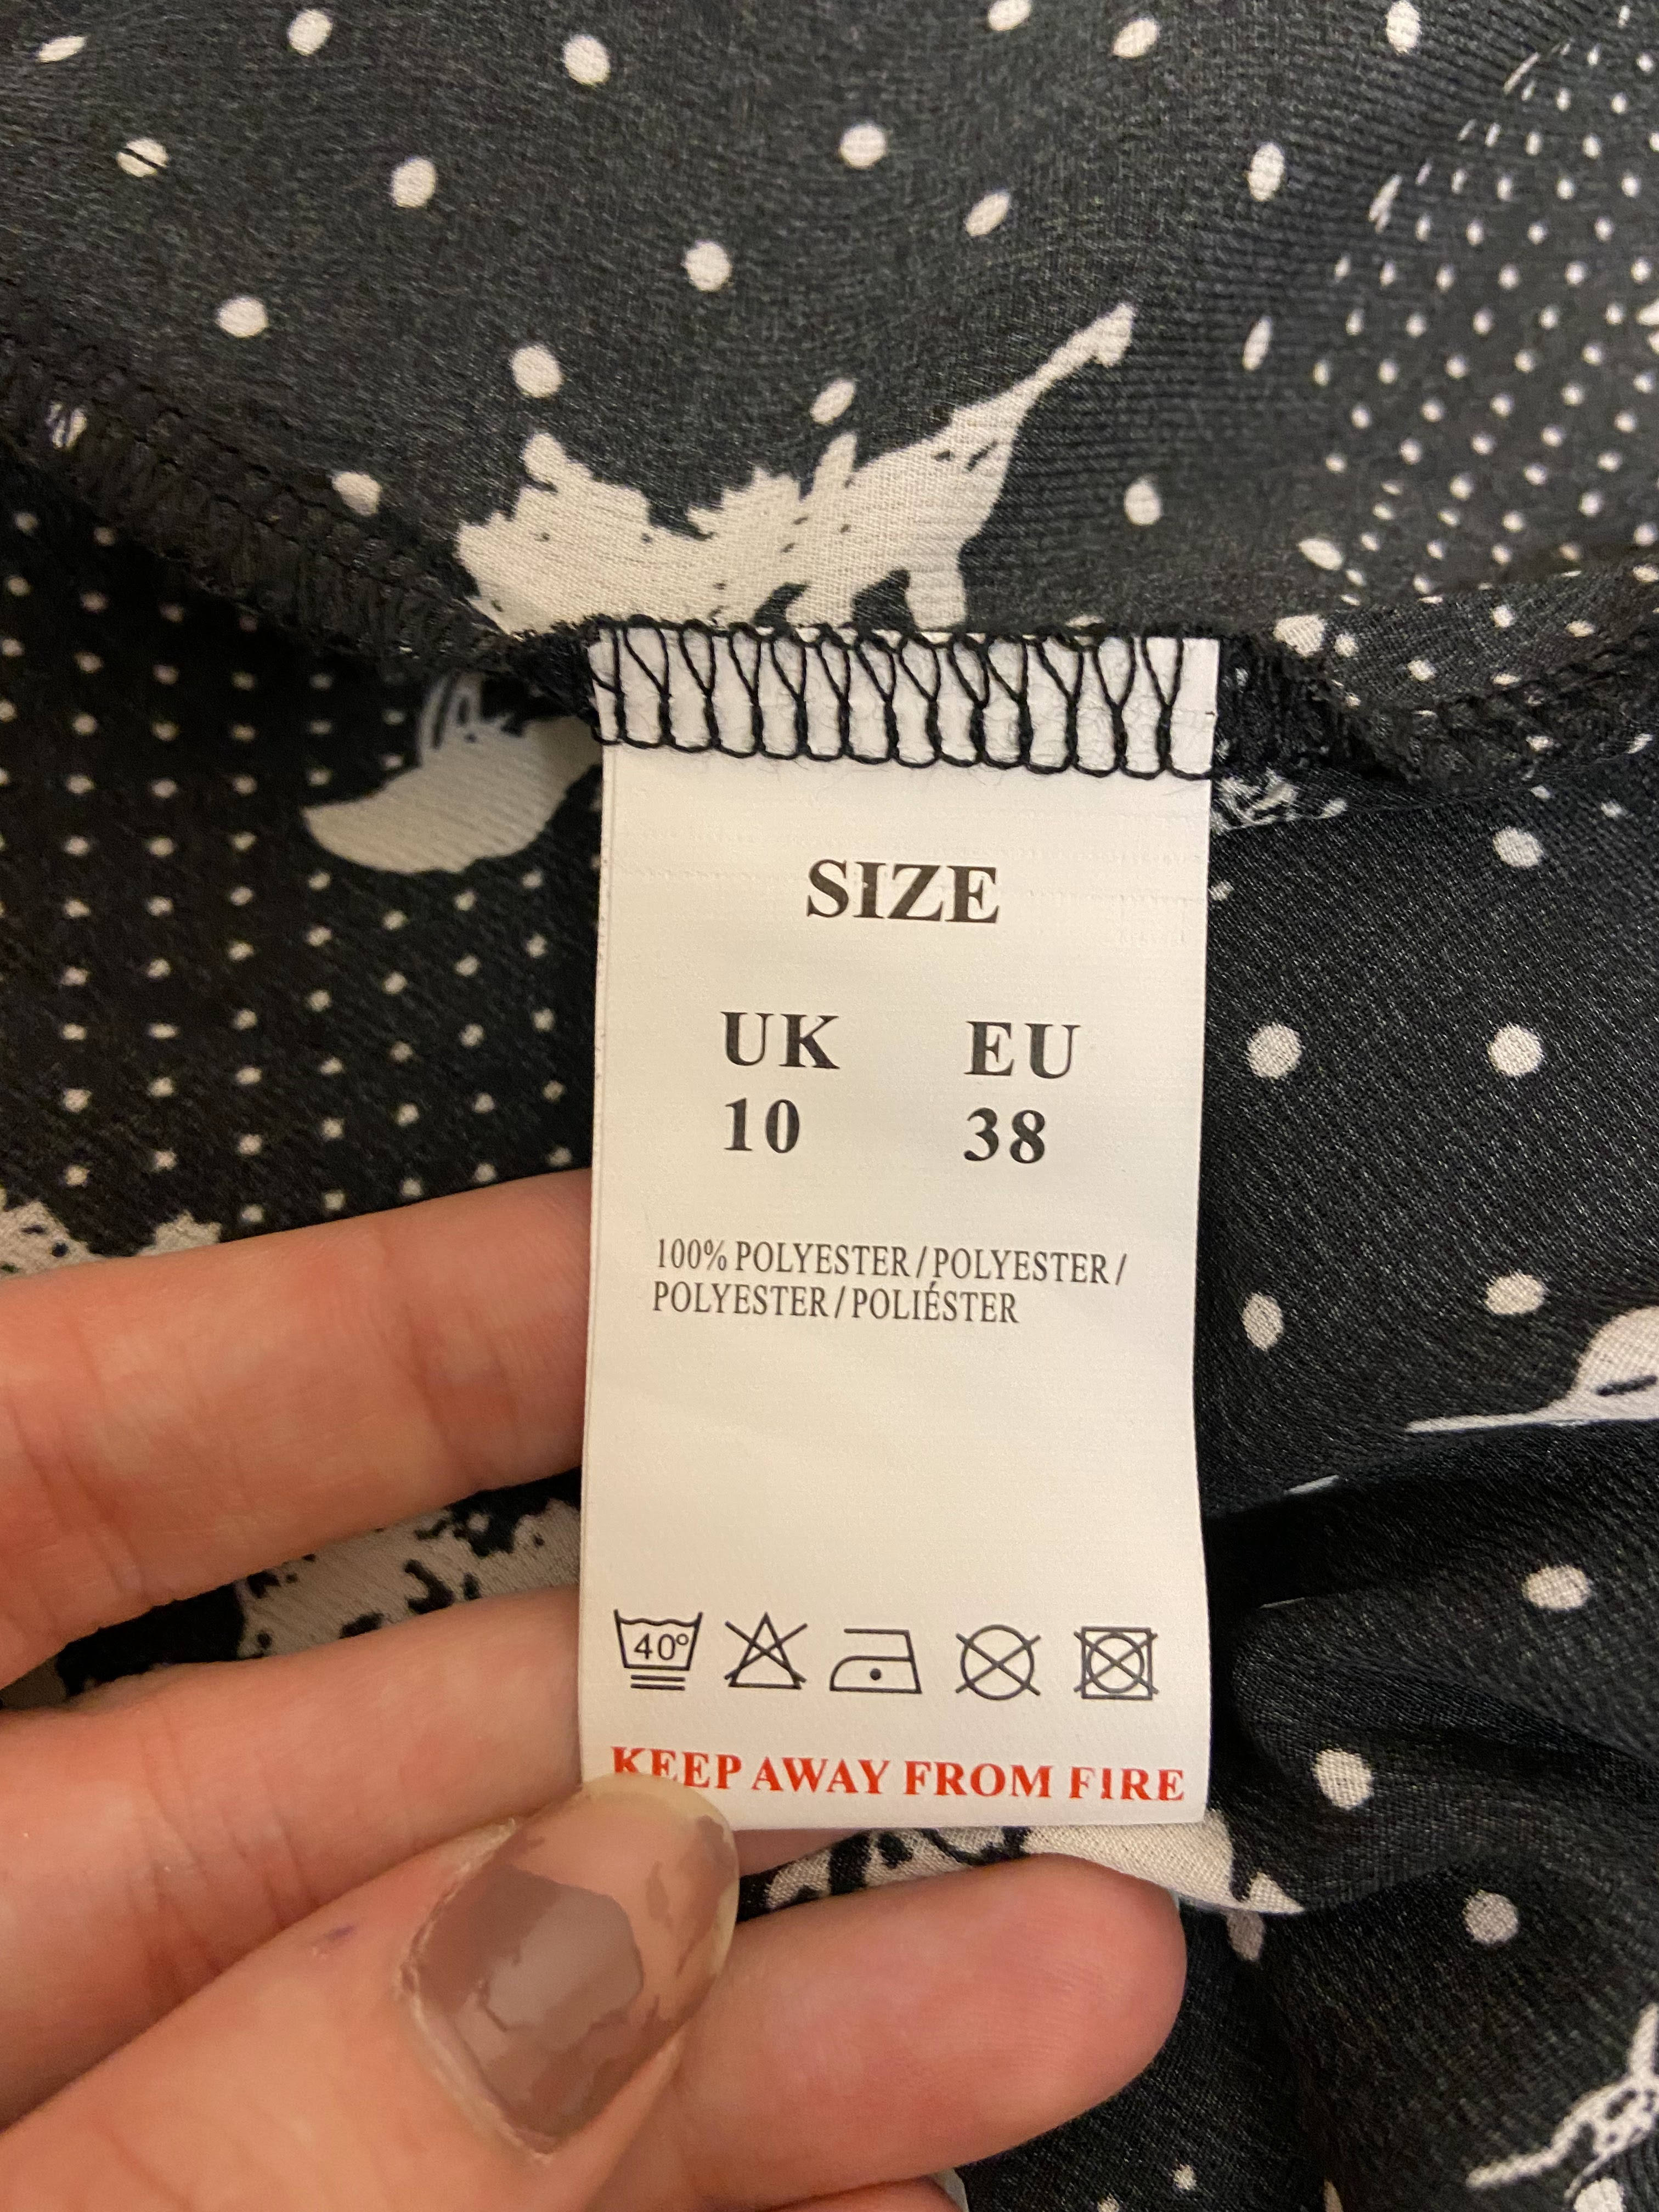do not bleach: (718, 1601, 810, 1707)
do not dry clean: (950, 1608, 1060, 1717)
do not tumble dry: (1060, 1602, 1168, 1730)
iron low temp: (805, 1602, 932, 1719)
wash at or below 40: (610, 1587, 708, 1705)
